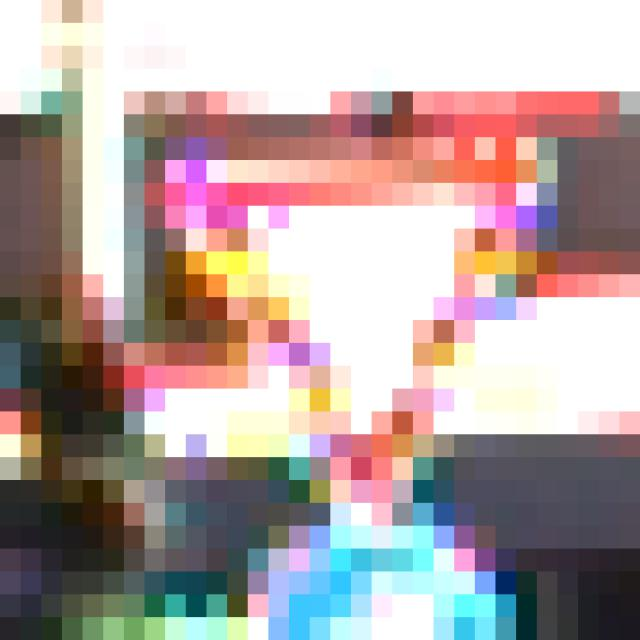Give Way: (104, 138, 538, 527)
